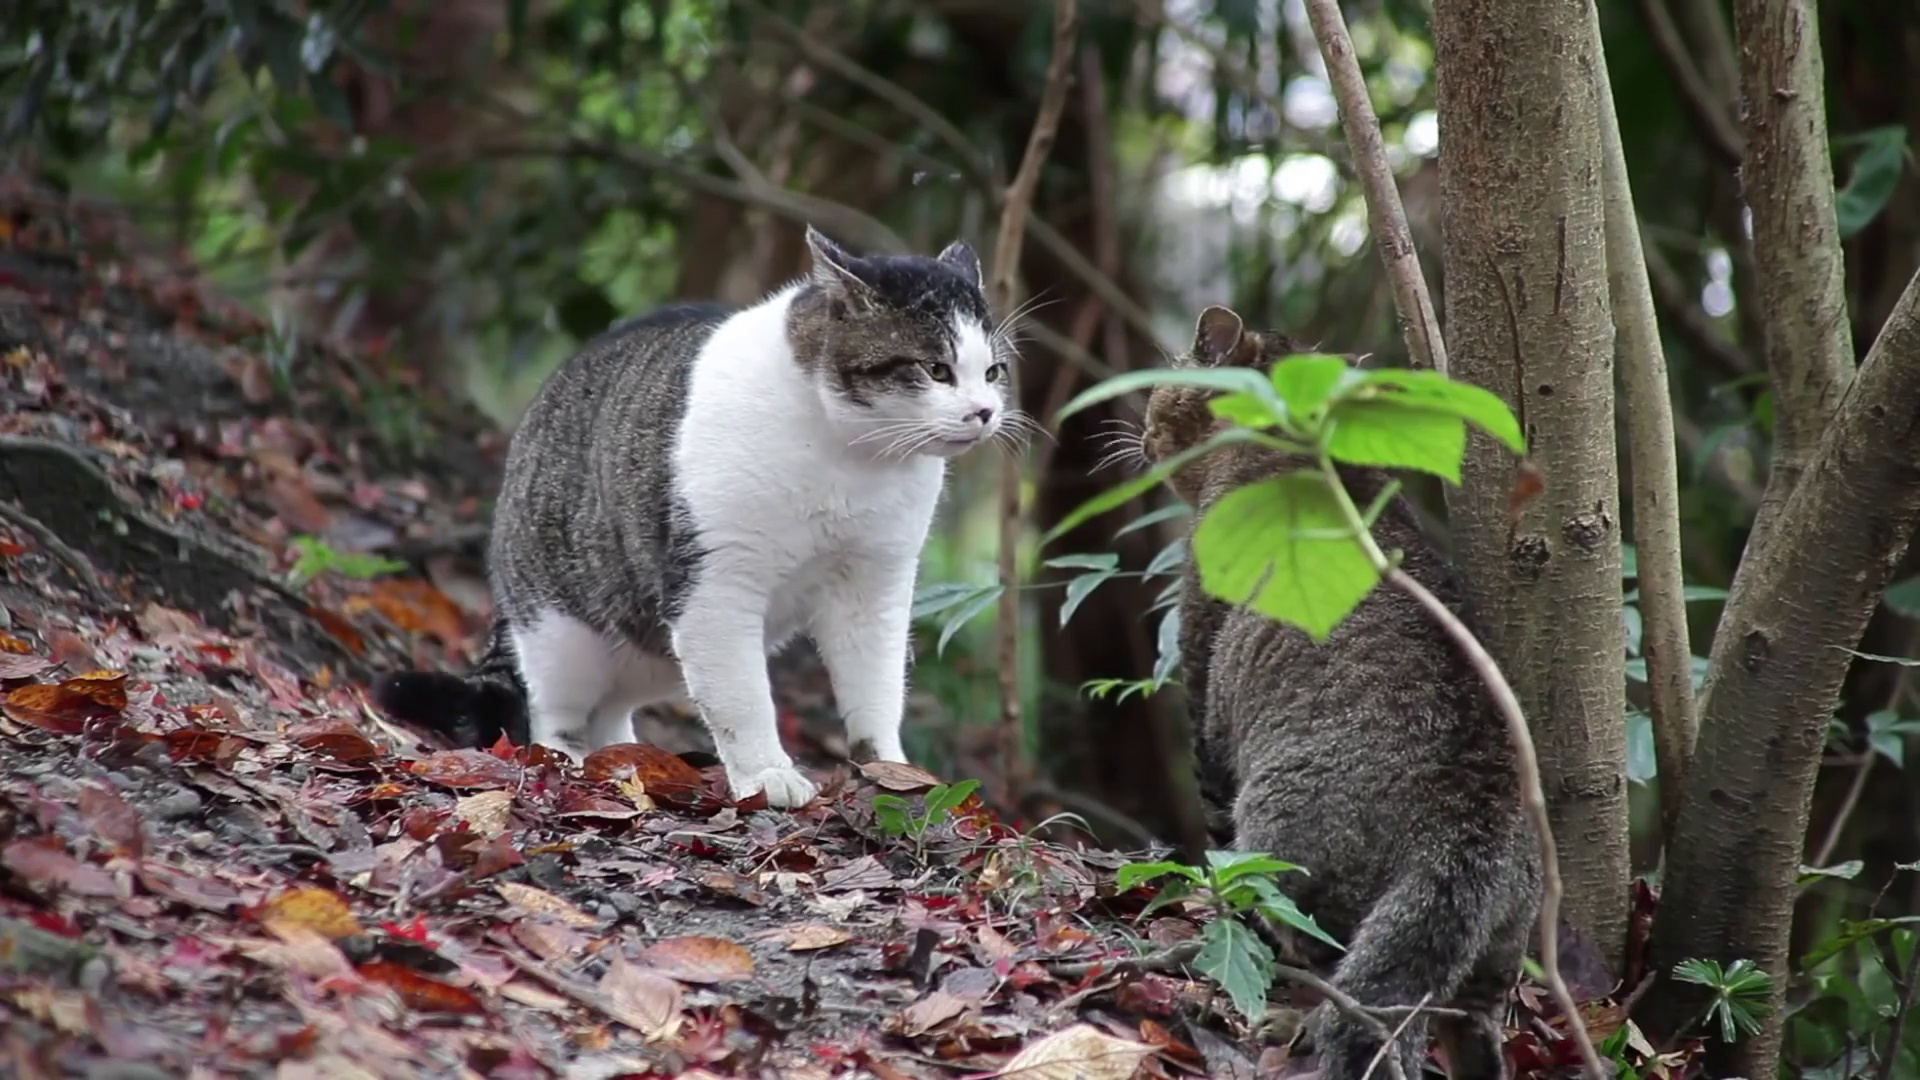black-white: (381, 225, 1006, 808)
pure black: (1139, 302, 1540, 1080)
